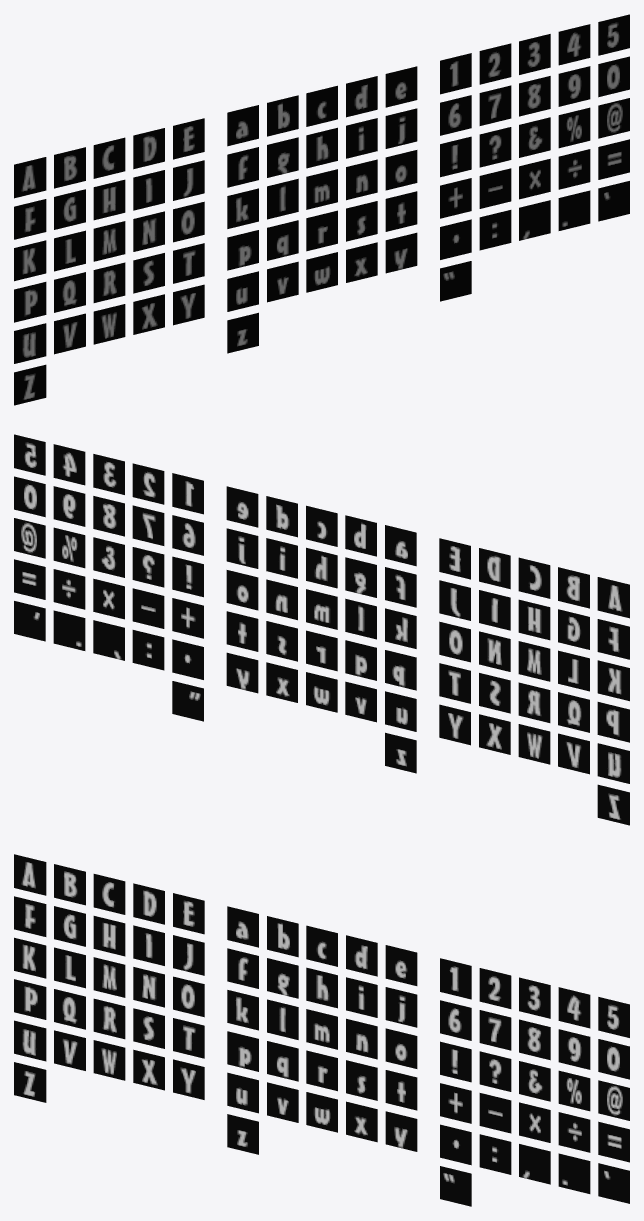
The picture shows the model from 3 angles, top to bottom: view 1: azimuth 30°, elevation 25°; view 2: azimuth 150°, elevation 25°; view 3: azimuth 330°, elevation 25°; orthographic projection.
Parts seen in each view (by area): view 1: Joint_0_Object_0; view 2: Joint_0_Object_0; view 3: Joint_0_Object_0.
Part boxes in pixels (x1,y1,x2,y2): Joint_0_Object_0: (14, 14, 629, 405); Joint_0_Object_0: (14, 434, 629, 825); Joint_0_Object_0: (14, 854, 629, 1206).
Bounding box in the file's own units: 1361 × 509 × 0.
1 material, 1 textured.
